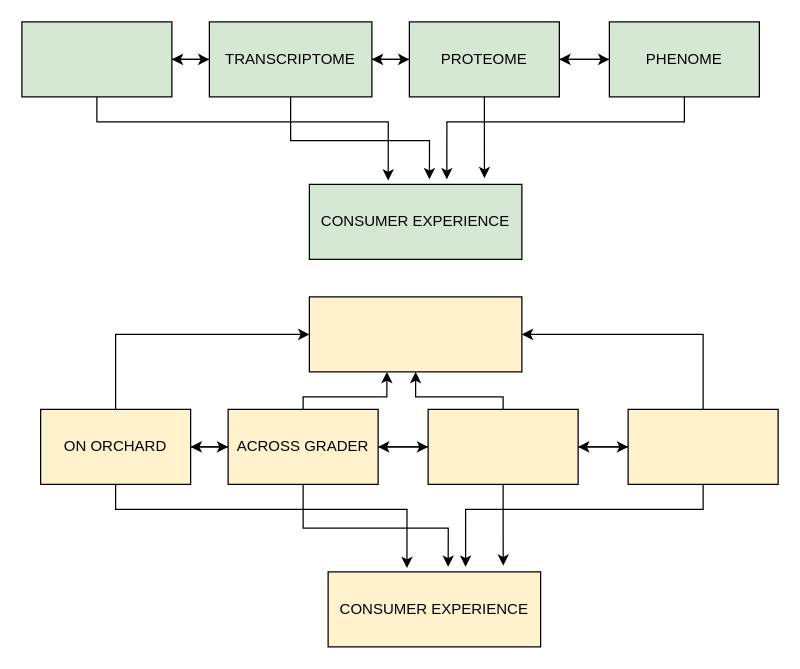
This 800x669 diagram has some shape labels left out. The box of each missing label's shape, as (x1, y1, x2, y2) in pixels:
GENOME: (21, 21, 172, 97)
IN COOLSTORE: (427, 408, 578, 484)
IN TRANSPORT: (627, 408, 778, 484)
SENSORS: (308, 296, 522, 372)
